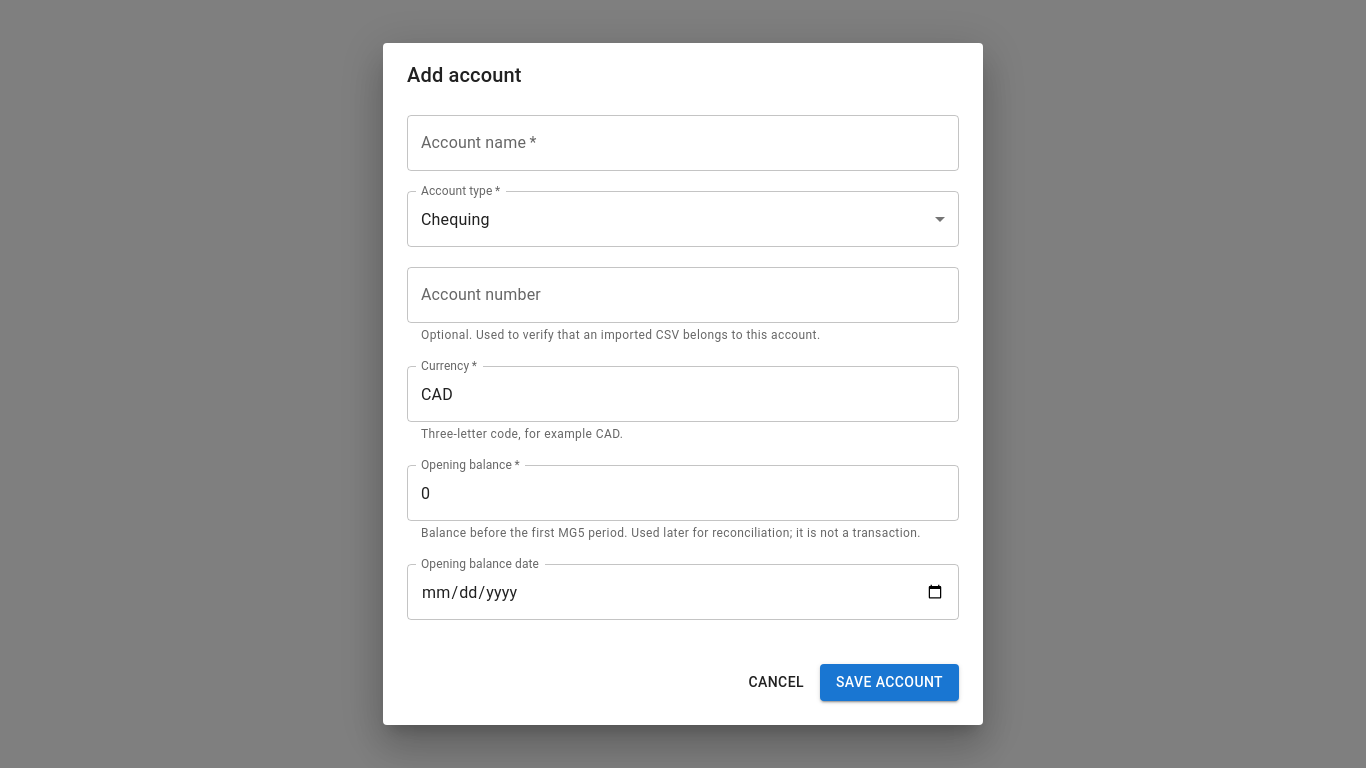
accounts › displays Laravel 422 field errors
Type "Cash" into the field labelled "Account name *".
click(683, 143); type("Cash")  # box top-left (407, 115), bottom-right (959, 171)
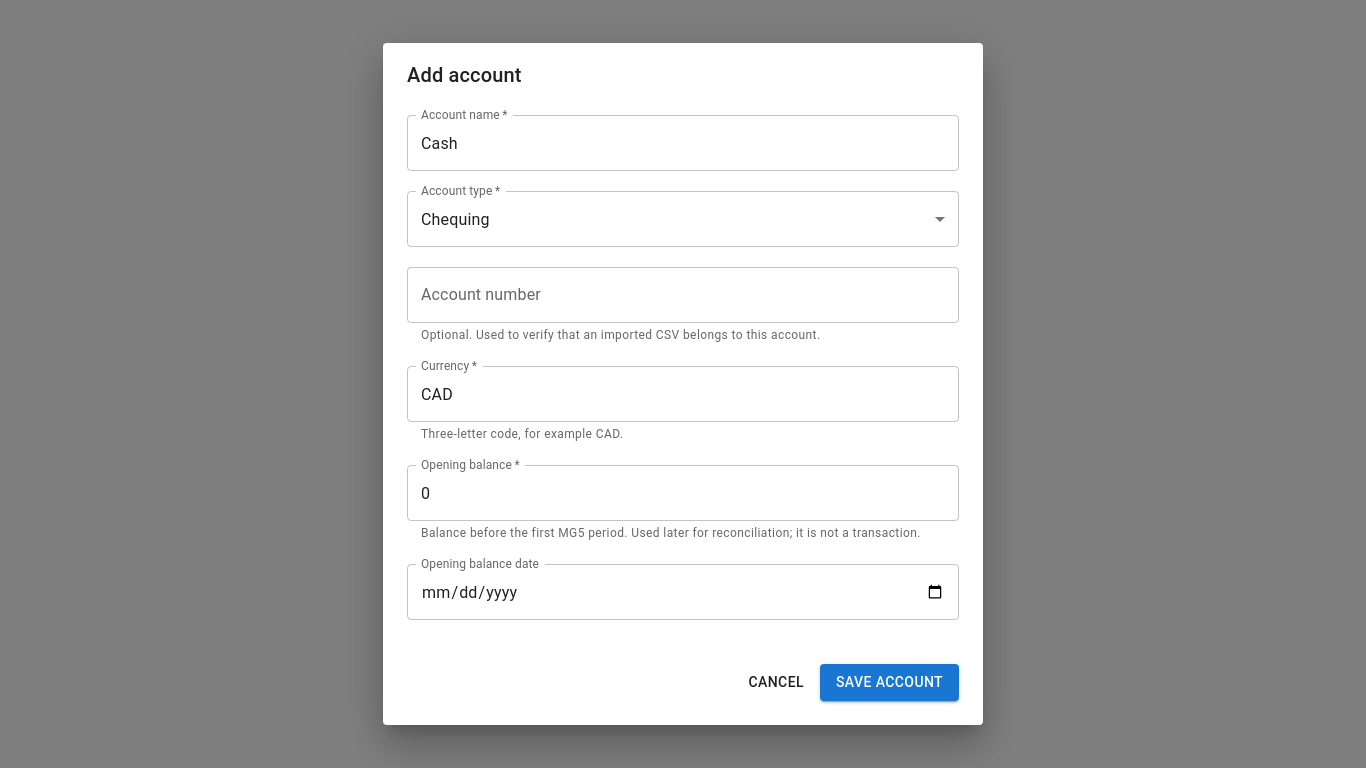
Click the button "Save account".
click(890, 682)  # box top-left (820, 664), bottom-right (959, 701)
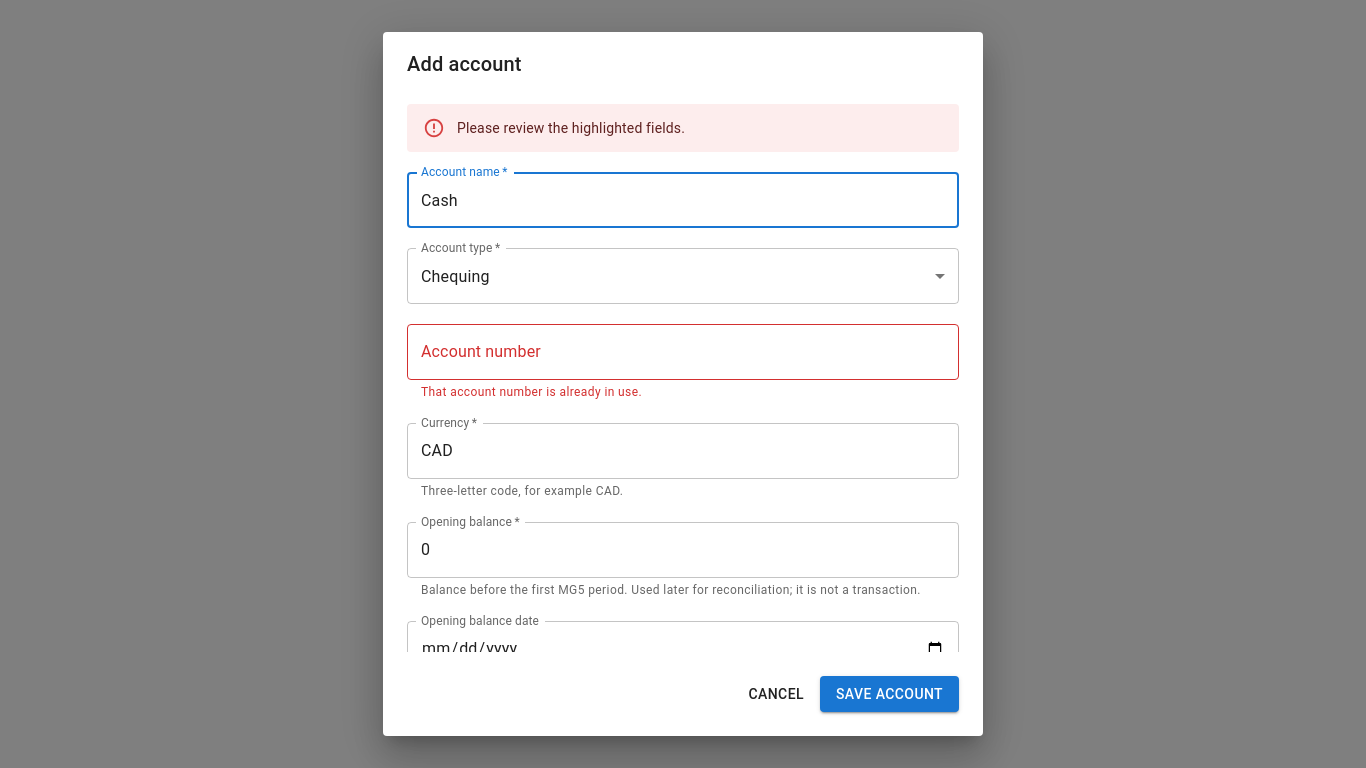
Check: the text "That account number is already in use." is shown, box top-left (421, 385), bottom-right (642, 399)
